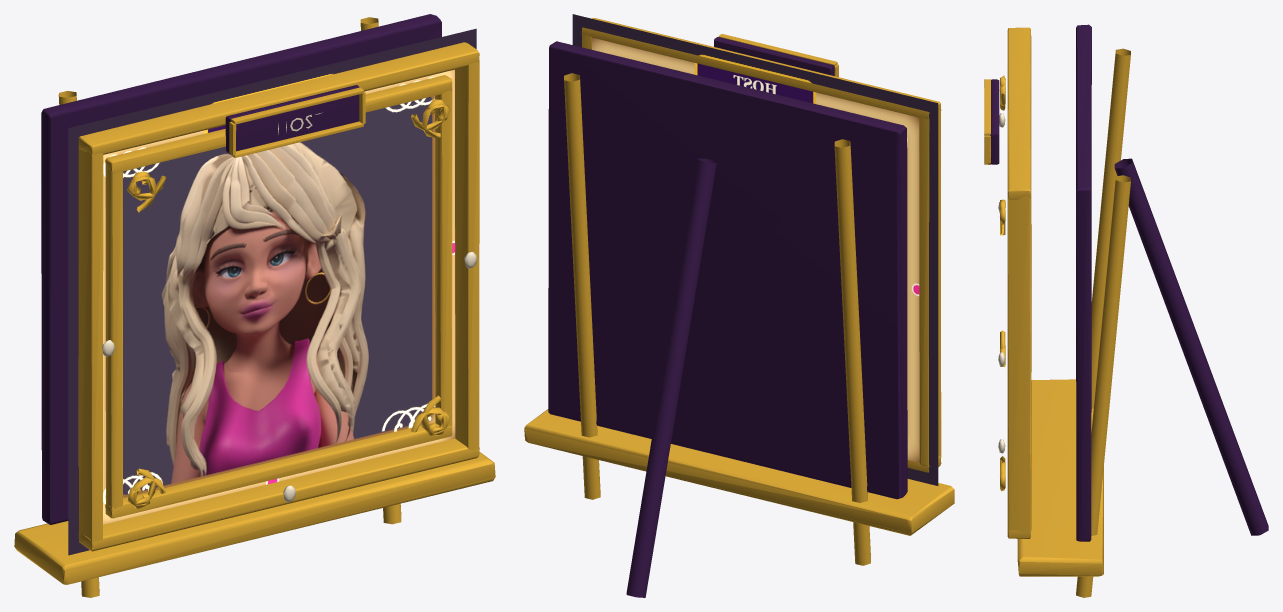
File: prime.frame.room-host.lod1.glb
The picture shows the model from 3 angles, left to right: view 1: azimuth 30°, elevation 25°; view 2: azimuth 150°, elevation 25°; view 3: azimuth 270°, elevation 25°; orthographic projection. The views are drawn at different scales.
Visible parts, largest first — view 1: artwork, print_support, shelf_lip, cast_outer_moulding_stile, cast_outer_moulding_rail, cast_outer_moulding_stile.001, cast_outer_moulding_rail.001, inner_bead_stile, inner_bead_rail, inner_bead_stile.001, host_enamel_plaque, inner_bead_rail.001 (+2 smaller); view 2: print_support, artwork, shelf_lip, back_leg, easel_leg.001, easel_leg, cast_outer_moulding_stile, cast_outer_moulding_rail.001, host_enamel_plaque, host_plaque_edge.001; view 3: shelf_lip, cast_outer_moulding_stile.001, print_support, back_leg, easel_leg.001, easel_leg, cast_outer_moulding_rail.001, host_enamel_plaque, host_plaque_edge.001.
Boxes of the visible parts, left/top/right/bottom form: artwork: left=68, top=28, right=476, bottom=555; print_support: left=41, top=14, right=441, bottom=524; shelf_lip: left=14, top=451, right=495, bottom=584; cast_outer_moulding_stile: left=78, top=145, right=103, bottom=542; cast_outer_moulding_rail: left=78, top=438, right=479, bottom=551; cast_outer_moulding_stile.001: left=455, top=60, right=479, bottom=450; cast_outer_moulding_rail.001: left=78, top=42, right=479, bottom=155; inner_bead_stile: left=105, top=168, right=122, bottom=510; inner_bead_rail: left=105, top=422, right=452, bottom=518; inner_bead_stile.001: left=435, top=90, right=452, bottom=426; host_enamel_plaque: left=225, top=85, right=359, bottom=154; inner_bead_rail.001: left=105, top=75, right=452, bottom=173; print_support: left=548, top=41, right=907, bottom=499; artwork: left=572, top=14, right=938, bottom=485; shelf_lip: left=524, top=409, right=954, bottom=535; back_leg: left=626, top=158, right=716, bottom=597; easel_leg.001: left=564, top=73, right=600, bottom=499; easel_leg: left=834, top=139, right=870, bottom=565; cast_outer_moulding_stile: left=919, top=109, right=941, bottom=466; cast_outer_moulding_rail.001: left=581, top=18, right=941, bottom=119; host_enamel_plaque: left=714, top=37, right=834, bottom=75; host_plaque_edge.001: left=718, top=34, right=837, bottom=65; shelf_lip: left=1017, top=379, right=1103, bottom=576; cast_outer_moulding_stile.001: left=1007, top=196, right=1031, bottom=531; print_support: left=1076, top=24, right=1091, bottom=541; back_leg: left=1114, top=158, right=1268, bottom=535; easel_leg.001: left=1076, top=175, right=1130, bottom=597; easel_leg: left=1091, top=48, right=1130, bottom=408; cast_outer_moulding_rail.001: left=1007, top=27, right=1031, bottom=199; host_enamel_plaque: left=990, top=79, right=999, bottom=164; host_plaque_edge.001: left=984, top=79, right=990, bottom=135.
Size of the model in its own units: 0.6721 by 0.75 by 0.447.
4 materials, 1 textured.
